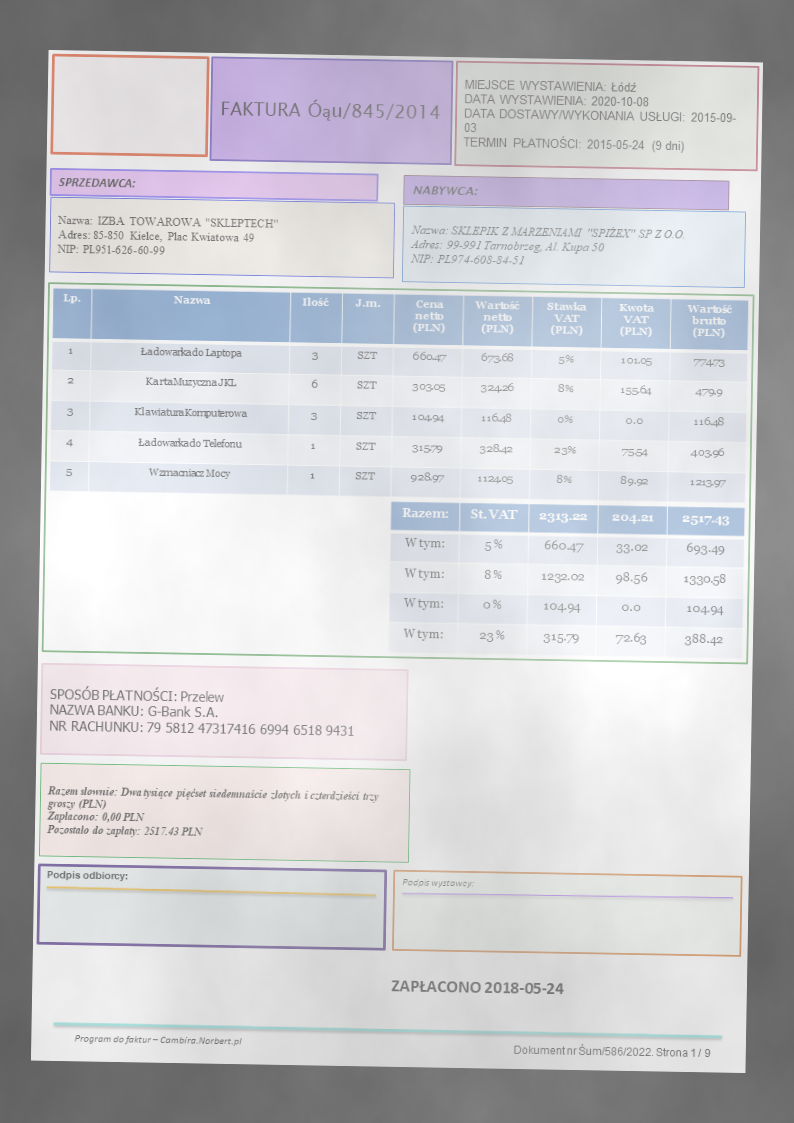Table: (48, 285, 747, 502), (387, 499, 746, 661)
TextBox: (460, 74, 739, 157), (44, 781, 382, 843), (46, 682, 359, 742), (408, 220, 687, 269), (54, 209, 281, 262), (217, 94, 442, 126), (389, 975, 567, 999), (510, 1040, 711, 1060), (72, 1031, 243, 1048), (44, 866, 132, 884), (57, 173, 137, 192), (399, 872, 474, 892), (409, 181, 480, 200)
